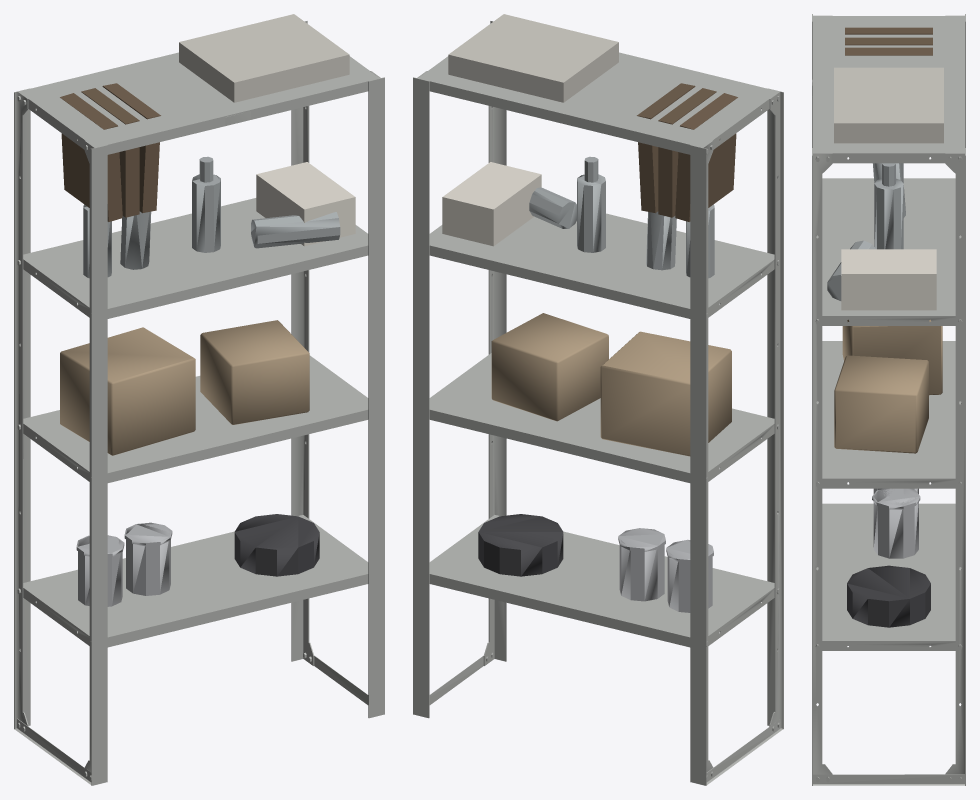
File: Dress_ShelfStocked.fbx
3 views of the same model, side by side, from view 1: azimuth 30°, elevation 25°; view 2: azimuth 150°, elevation 25°; view 3: azimuth 270°, elevation 25° (orthographic).
Visible parts, largest first — view 1: Dress_ShelfStocked; view 2: Dress_ShelfStocked; view 3: Dress_ShelfStocked.
Boxes of the visible parts, box(x1,y1,x2,y2) form: Dress_ShelfStocked: box(14, 14, 384, 785); Dress_ShelfStocked: box(413, 14, 783, 785); Dress_ShelfStocked: box(812, 14, 965, 785).
Bounding box in the file's own units: 91.54 × 196 × 42.
